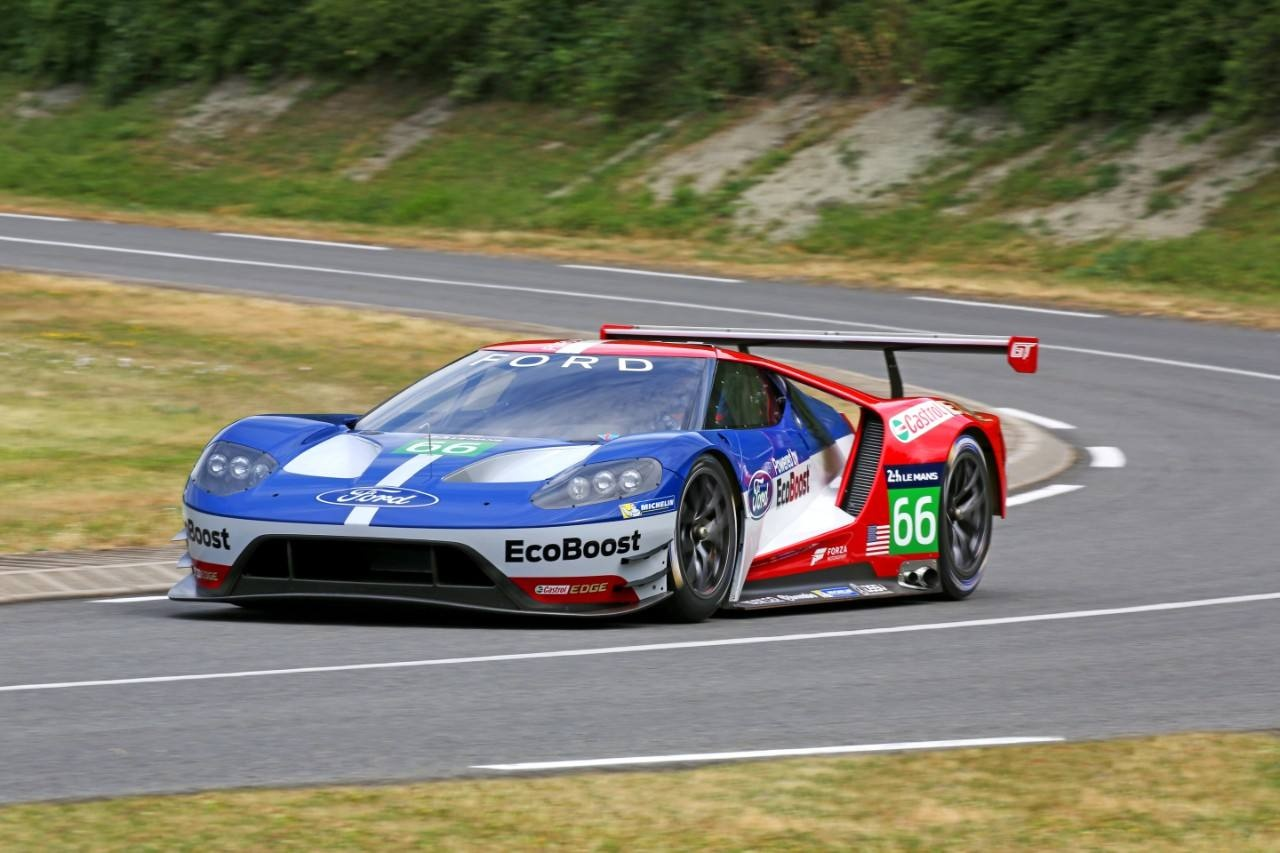racing car: (175, 297, 1062, 629)
